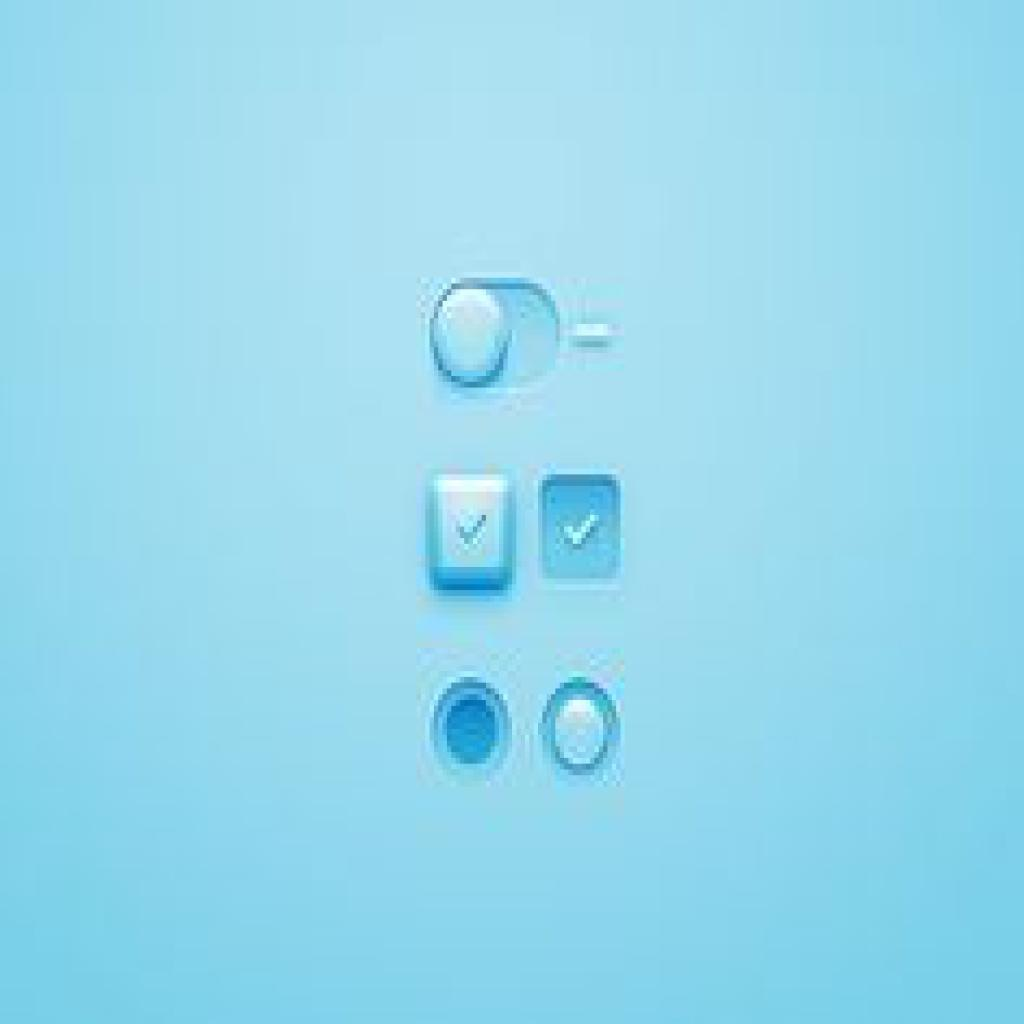checkbox: (424, 476, 515, 590), (537, 479, 623, 584)
radio: (422, 678, 514, 780), (539, 680, 629, 783)
switch: (426, 282, 569, 392)
